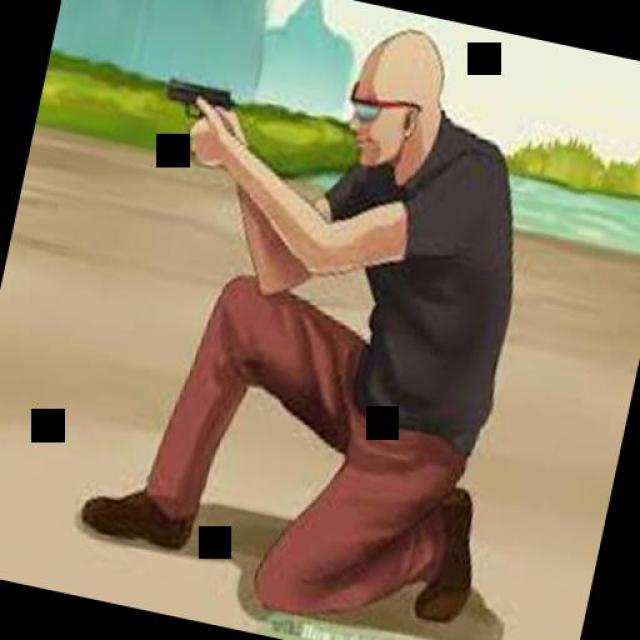gun: (153, 70, 255, 160)
